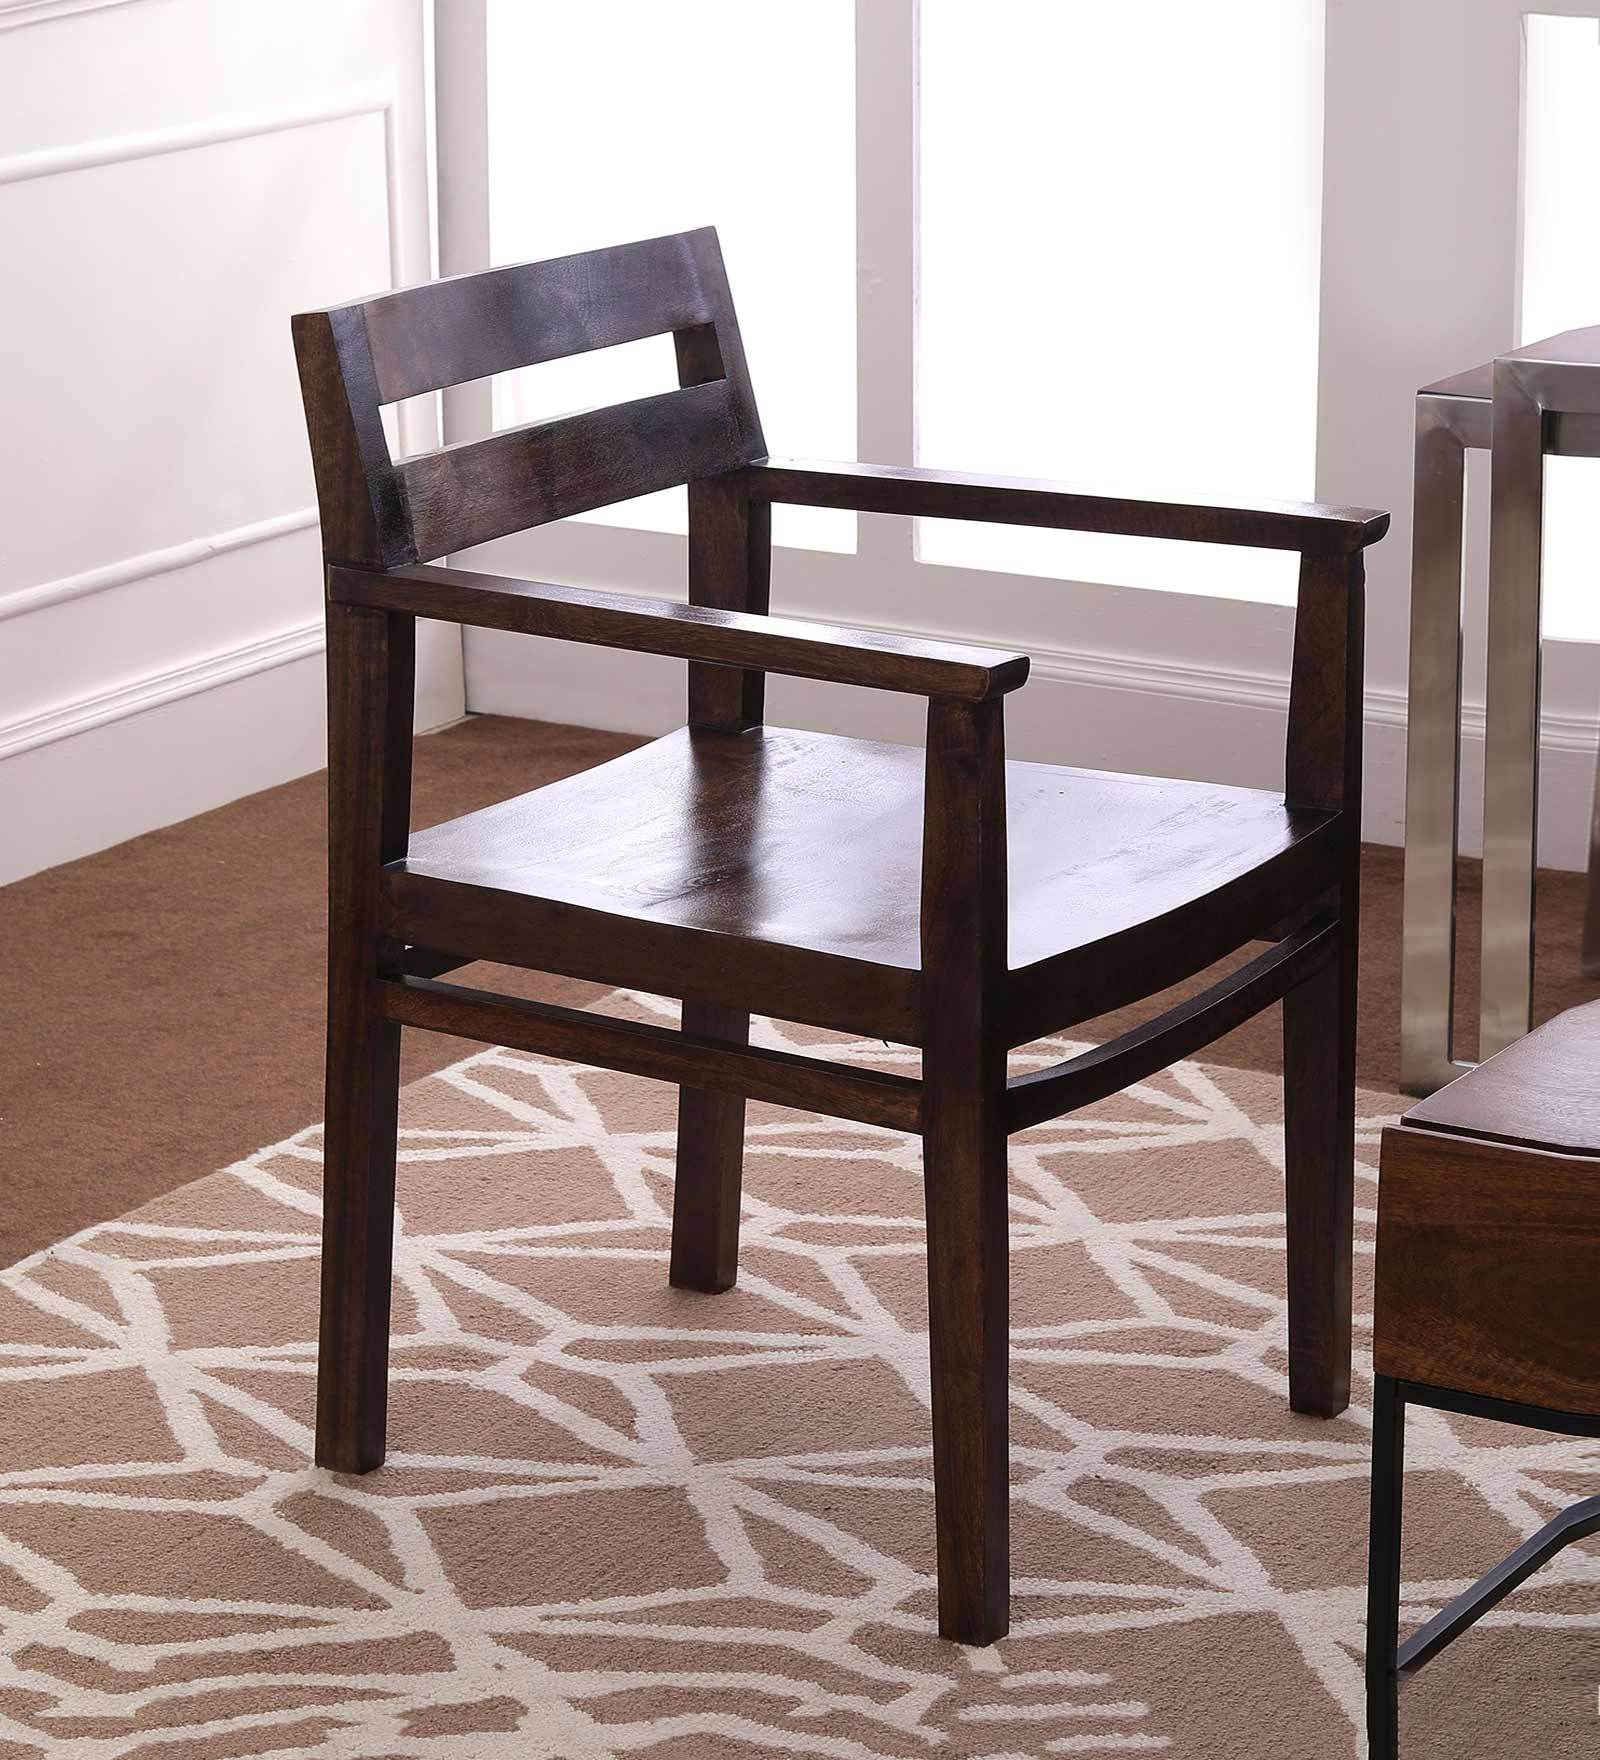Barcelona Solid Wood Arm Chair in Provincial Teak Finish by TheArmchair: (271, 209, 1346, 1677)
